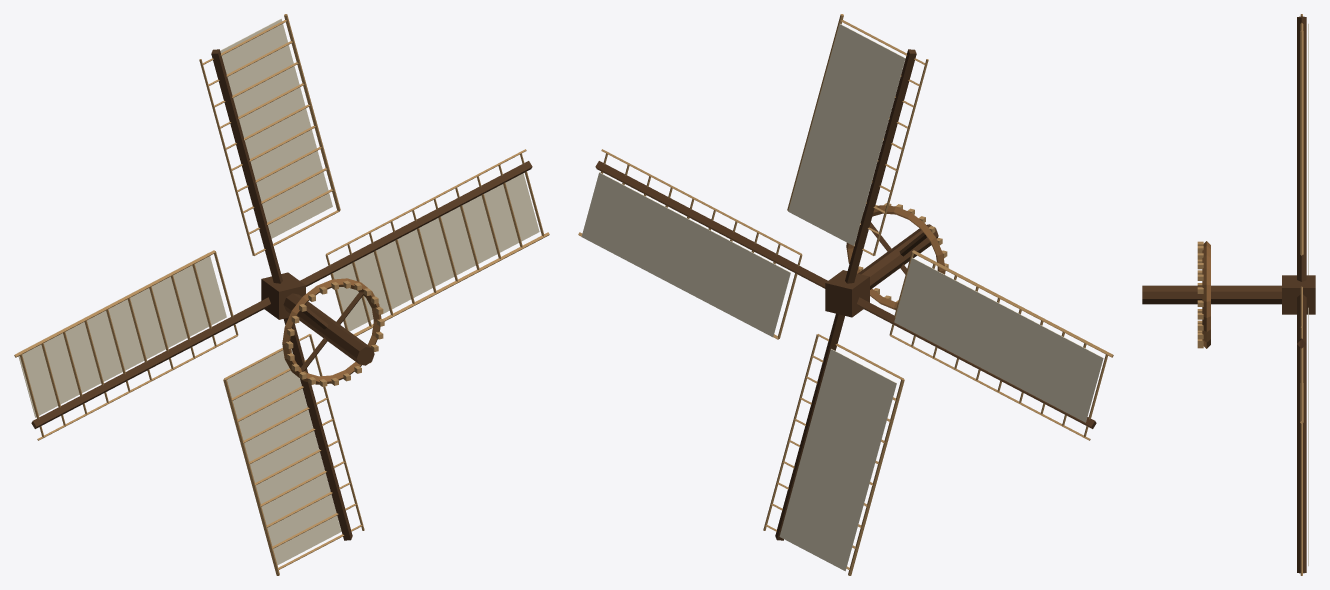
File: post_mill_sails.glb
3 views of the same model, side by side, from view 1: azimuth 30°, elevation 25°; view 2: azimuth 150°, elevation 25°; view 3: azimuth 270°, elevation 25° (orthographic). The views are drawn at different scales.
Visible parts, largest first — view 1: sails, cloth_2, cloth_3, cloth_1, cloth_0; view 2: sails, cloth_2, cloth_0, cloth_3, cloth_1; view 3: sails.
Boxes of the visible parts, box(x1,y1,x2,y2) form: sails: box(14, 14, 549, 575); cloth_2: box(18, 252, 226, 417); cloth_3: box(225, 347, 341, 565); cloth_1: box(220, 18, 332, 238); cloth_0: box(333, 173, 539, 331); sails: box(578, 14, 1113, 575); cloth_2: box(894, 257, 1103, 422); cloth_0: box(581, 172, 790, 337); cloth_3: box(779, 349, 896, 571); cloth_1: box(788, 24, 905, 245); sails: box(1142, 14, 1315, 575).
Bounding box in the file's own units: 9.57 × 9.57 × 2.82.
